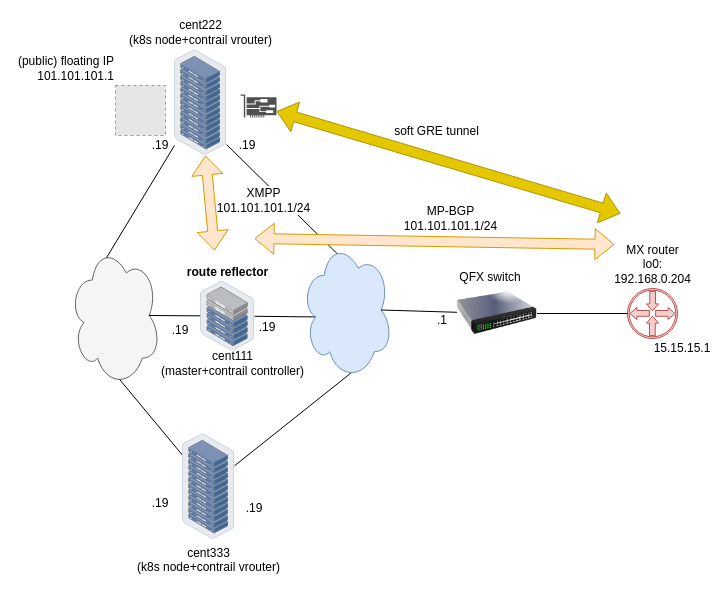
Some shapes in this 727 by 592 pixel diagram are drawn without their labels. Grey dashed boxes stand in for pictures. The shapes that lost their labels are listed below. From the top down, each one's centre as x and y in pixels, then its label:
point 258,105: gr-2/3/0.32771
point 114,315: management network 10.85.188/24
point 346,310: fabric network 10.169.25/24
